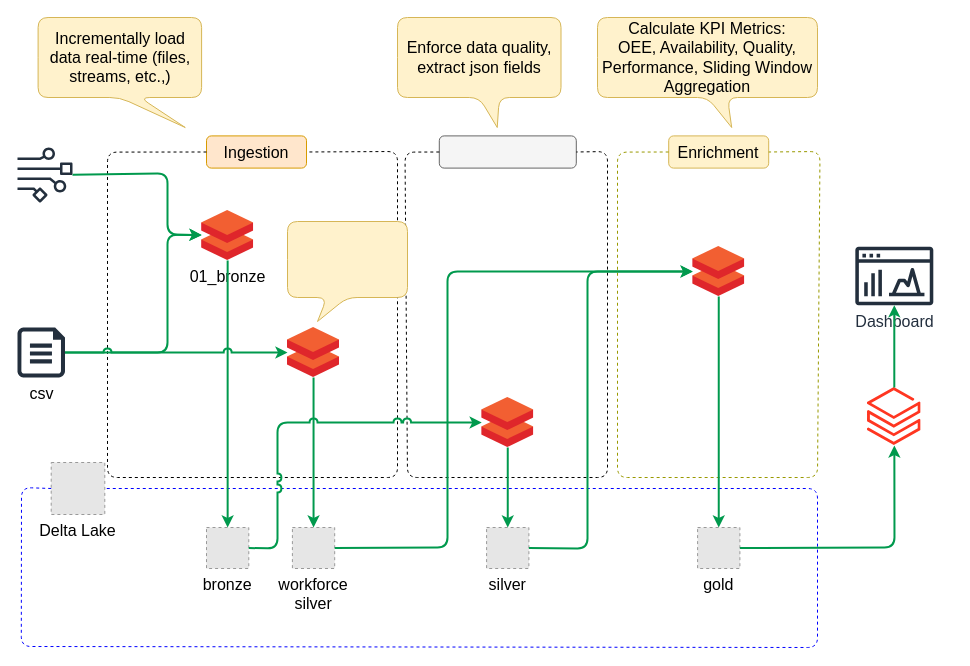
Image size: 970x666. Some labels were removed from this diagram. Grey dashed boxes stand in for pictures. The box of each missing label's shape, as (x1, y1, x2, y2) in pixels:
02 _workforce_silver: (287, 327, 339, 377)
03 _gold: (692, 246, 744, 296)
03 _silver: (481, 397, 533, 447)
Employee shift information for KPIs: (286, 220, 408, 322)
SQL Warehouse: (867, 387, 921, 445)
stream: (17, 147, 72, 202)
Transformation: (438, 135, 576, 168)
